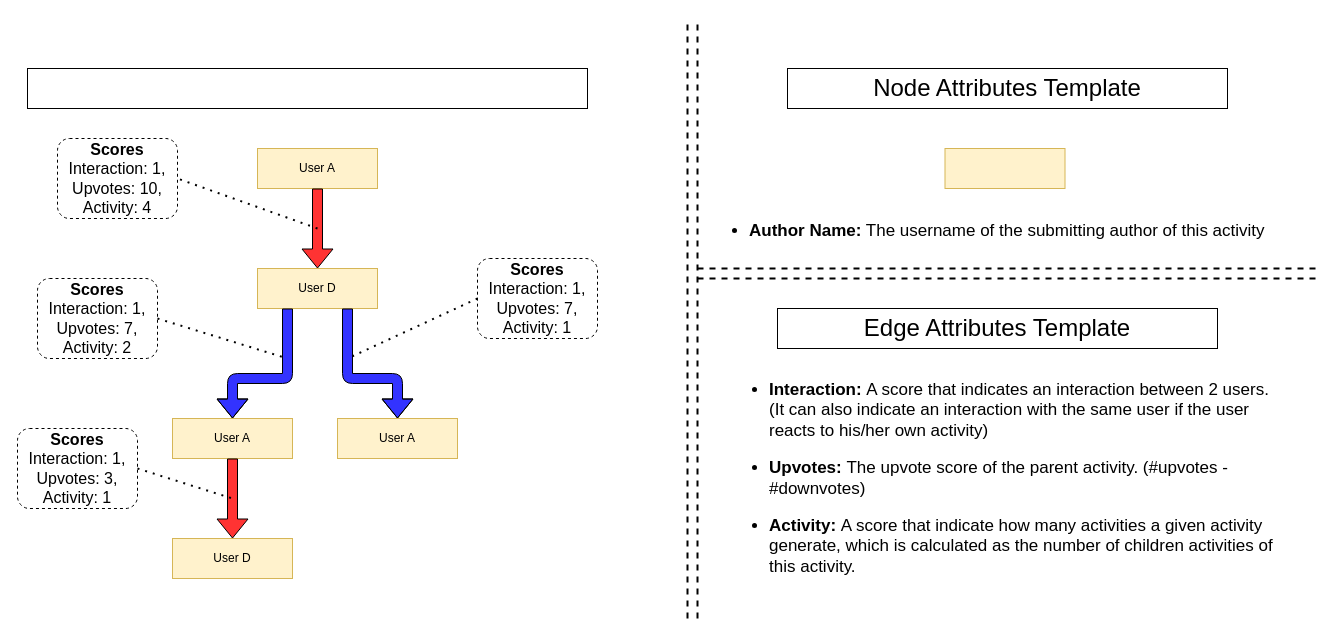
Some shapes in this 1339 by 637 pixel diagram are drawn without their labels. The centre of each missing label's shape, as x and y in pixels:
"Activity Graph" goes at (307,88).
"Author Name" goes at (1004,168).
